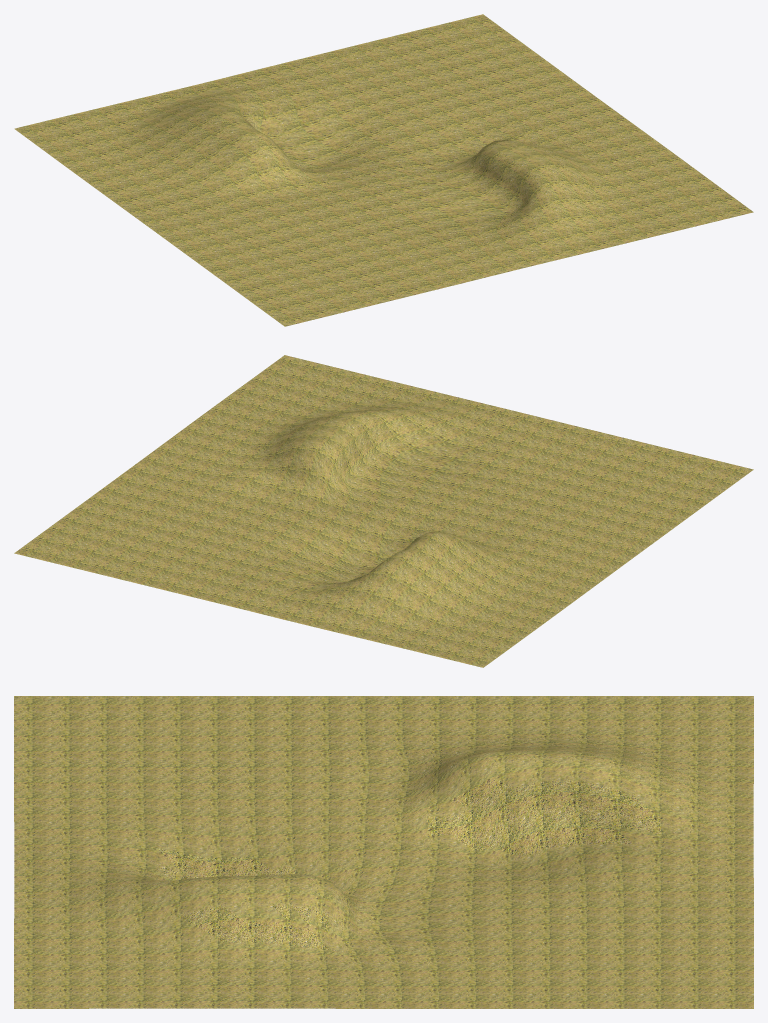
The model's file is MuseumGrass.glb.
3 views of the same model, one above another, from view 1: azimuth 30°, elevation 25°; view 2: azimuth 150°, elevation 25°; view 3: azimuth 270°, elevation 25° (orthographic). The views are drawn at different scales.
Parts seen in each view (by area): view 1: MuseumGrass-col; view 2: MuseumGrass-col; view 3: MuseumGrass-col.
Part boxes in pixels (x1,y1,x2,y2): MuseumGrass-col: (14, 14, 753, 326); MuseumGrass-col: (14, 355, 753, 667); MuseumGrass-col: (14, 696, 753, 1008).
Bounding box in the file's own units: 69.66 × 6.29 × 69.59.
1 material, 1 textured.
